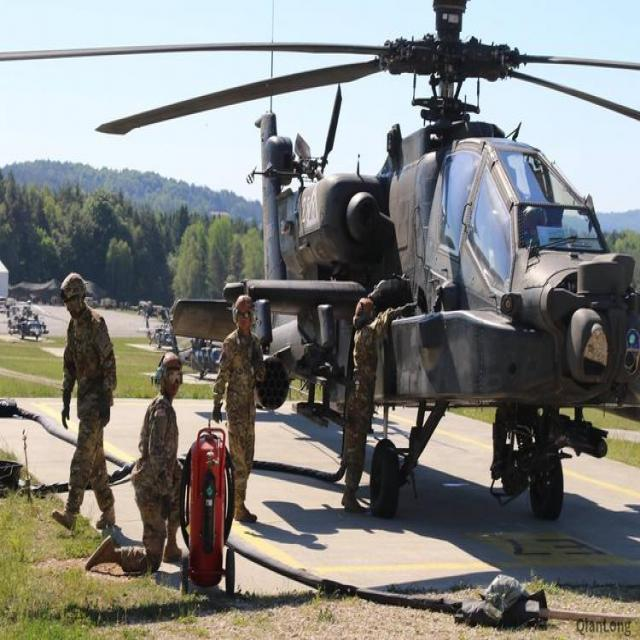MIL_HELO: (146, 21, 640, 524)
